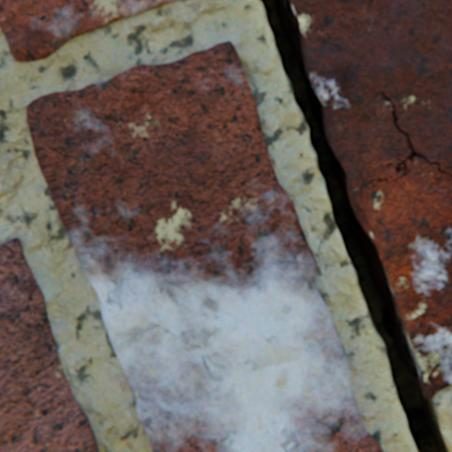brick: (28, 41, 381, 451), (290, 0, 451, 396), (0, 237, 99, 451), (0, 0, 178, 62)
crack: (259, 0, 451, 451), (380, 90, 451, 177), (368, 178, 386, 182)
